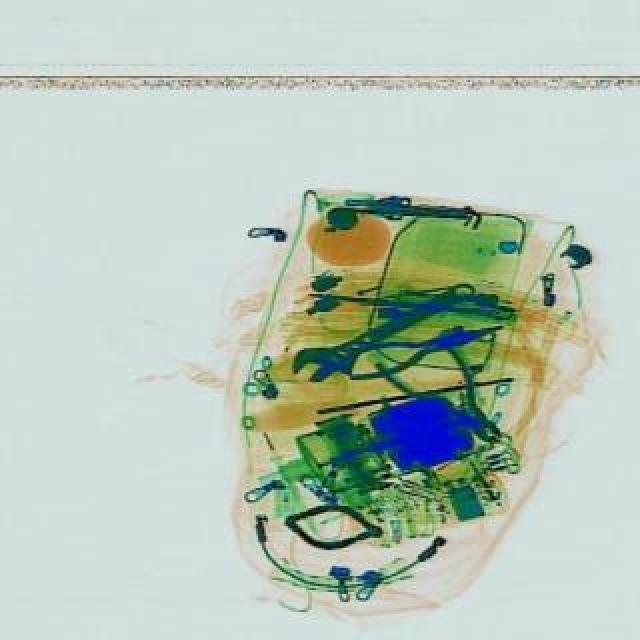scissors: (280, 266, 480, 398)
wrench: (372, 320, 526, 464), (340, 314, 504, 382)
